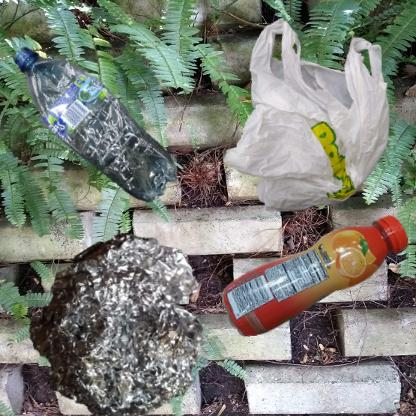aluminio: (10, 213, 234, 416)
bolsa: (213, 10, 416, 252)
botella: (10, 10, 220, 278), (213, 213, 416, 350)
